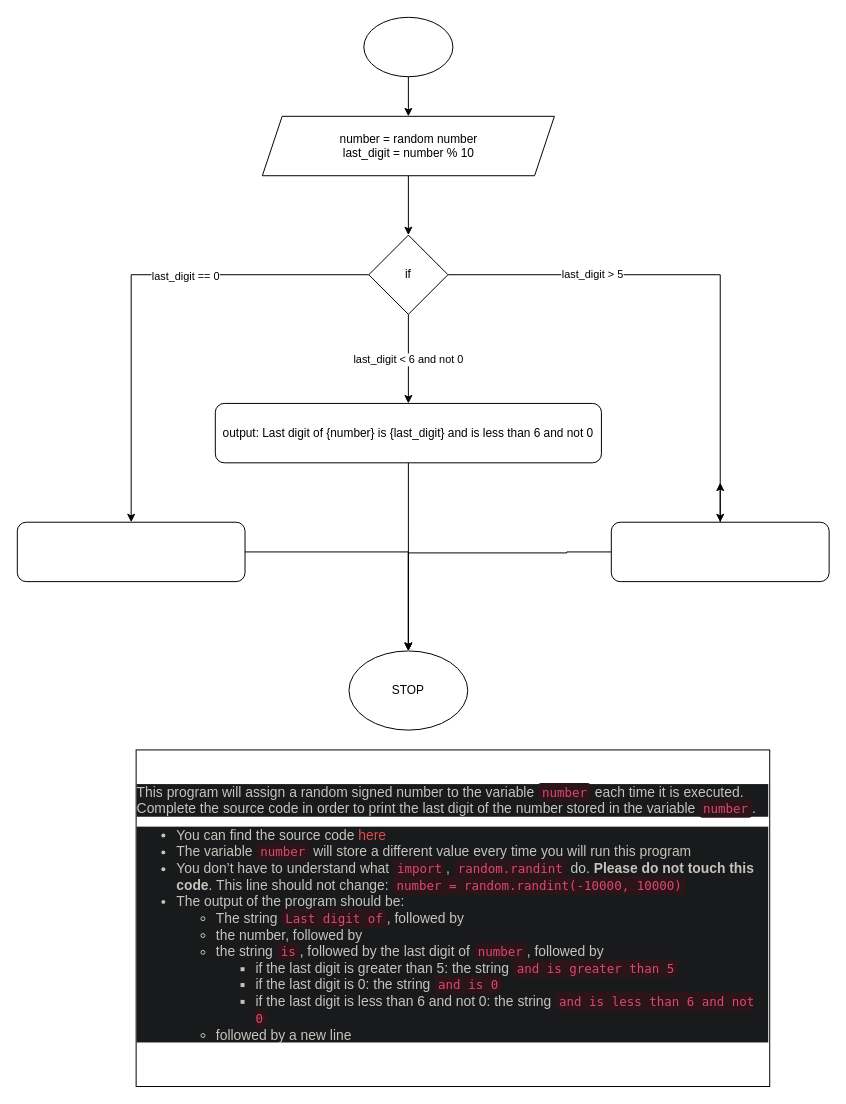
Some shapes in this 846 by 1104 pixel diagram are drawn without their labels. The centre of each missing label's shape, as x and y in pixels:
"output: Last digit of {number} is {last_digit} and is 0" goes at (x=130, y=551).
"output: Last digit of {number} is {last_digit} and is greater than 5" goes at (x=719, y=551).
"START" goes at (x=408, y=46).
